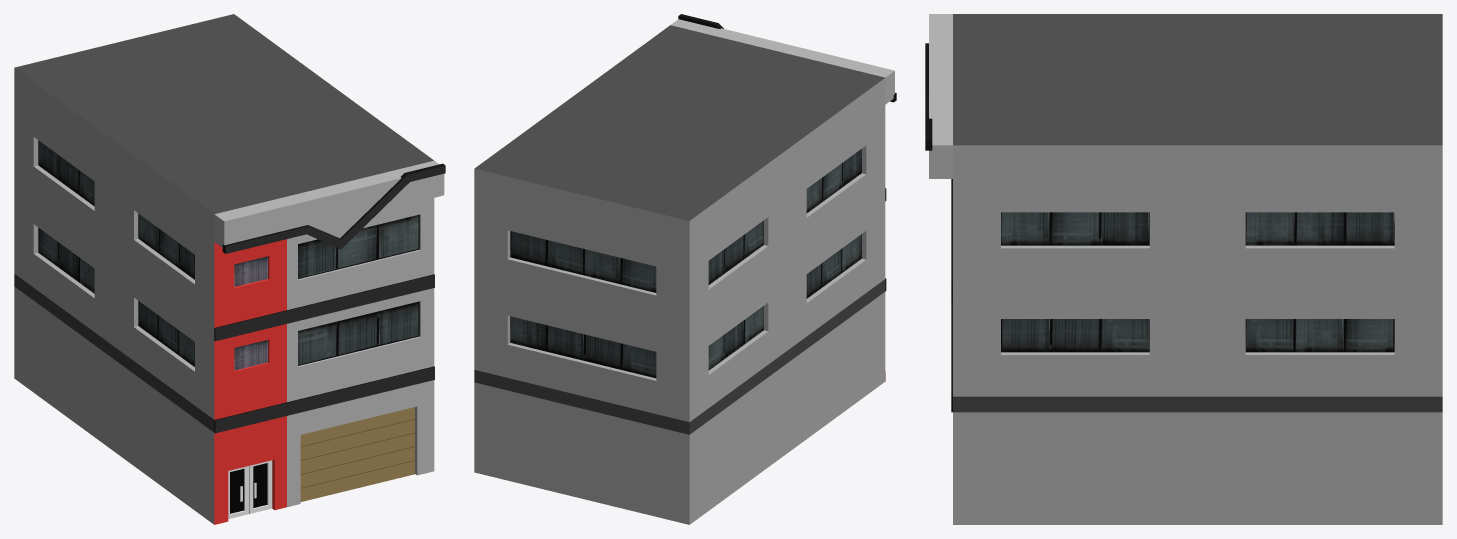
3 views of the same model, side by side, from view 1: azimuth 30°, elevation 25°; view 2: azimuth 150°, elevation 25°; view 3: azimuth 270°, elevation 25° (orthographic). The views are drawn at different scales.
Visible parts, largest first — view 1: BB-039; view 2: BB-039; view 3: BB-039.
Part boxes in pixels (bbox=[...]): BB-039: bbox=[14, 14, 445, 524]; BB-039: bbox=[474, 14, 896, 524]; BB-039: bbox=[925, 14, 1442, 524].
Size of what is drawn, in the model's own units: 10.01 by 13.66 by 16.66.
